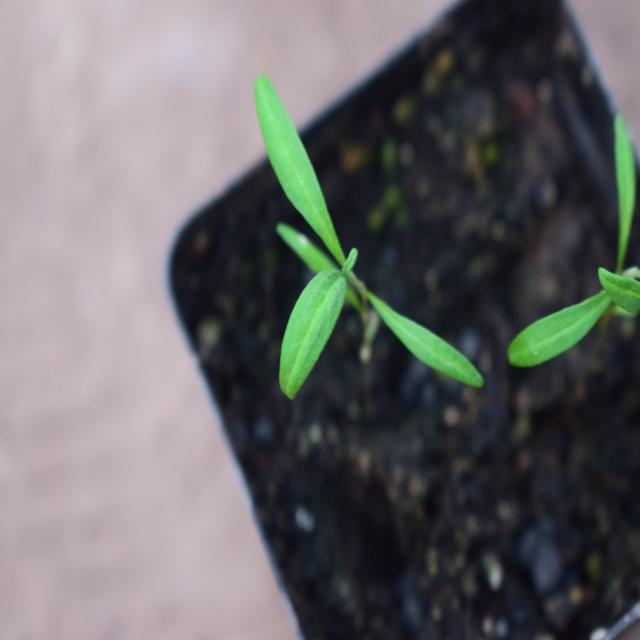white_smart_weed: (238, 56, 472, 443)
